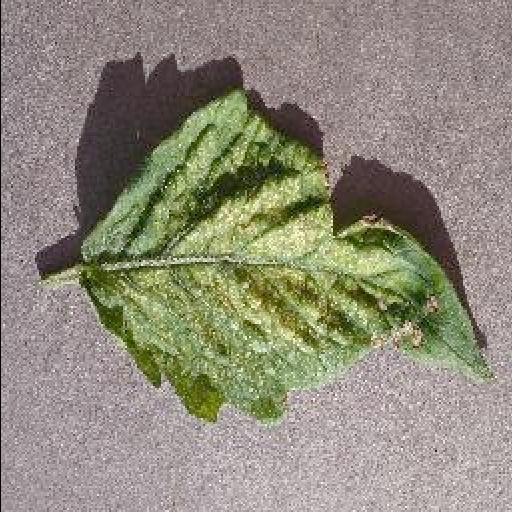disease_tomato: (78, 94, 494, 422)
